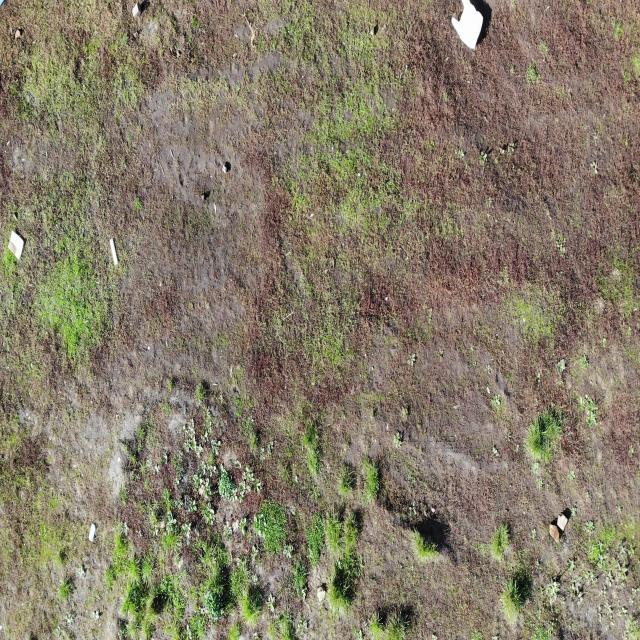rubbish: (450, 0, 484, 53), (6, 228, 25, 260), (108, 235, 120, 267), (87, 520, 98, 544), (0, 0, 5, 6)
